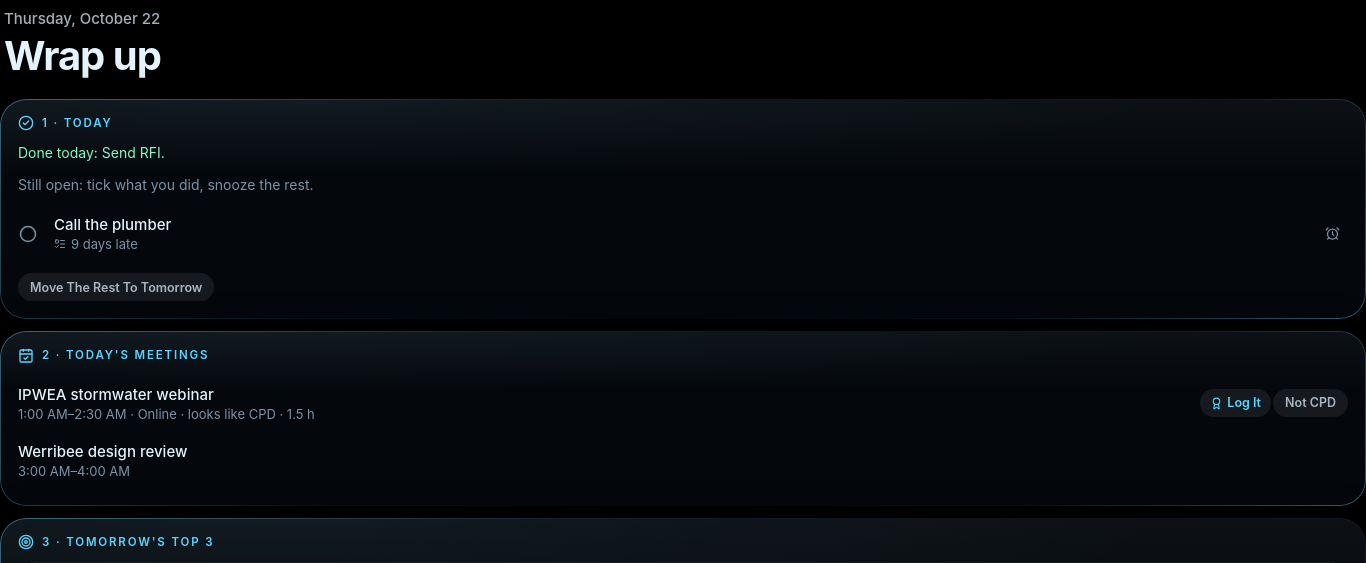
Test: <WrapUpScreen /> › moves what's left to tomorrow in one go
What coordinates should you click on to do the following:
click the button "Move the rest to tomorrow"
I would click on:
 (116, 288)
Its box is [18,274,214,302].
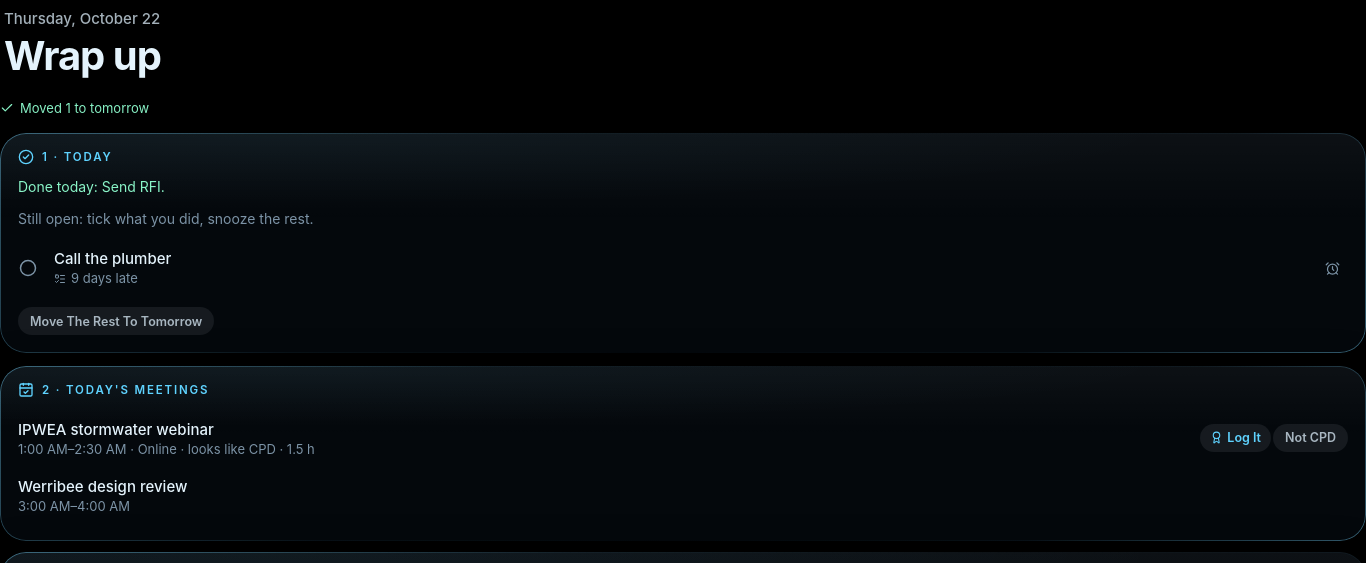
Now the message reads "Moved 1 to tomorrow", box [20,100,149,116]
